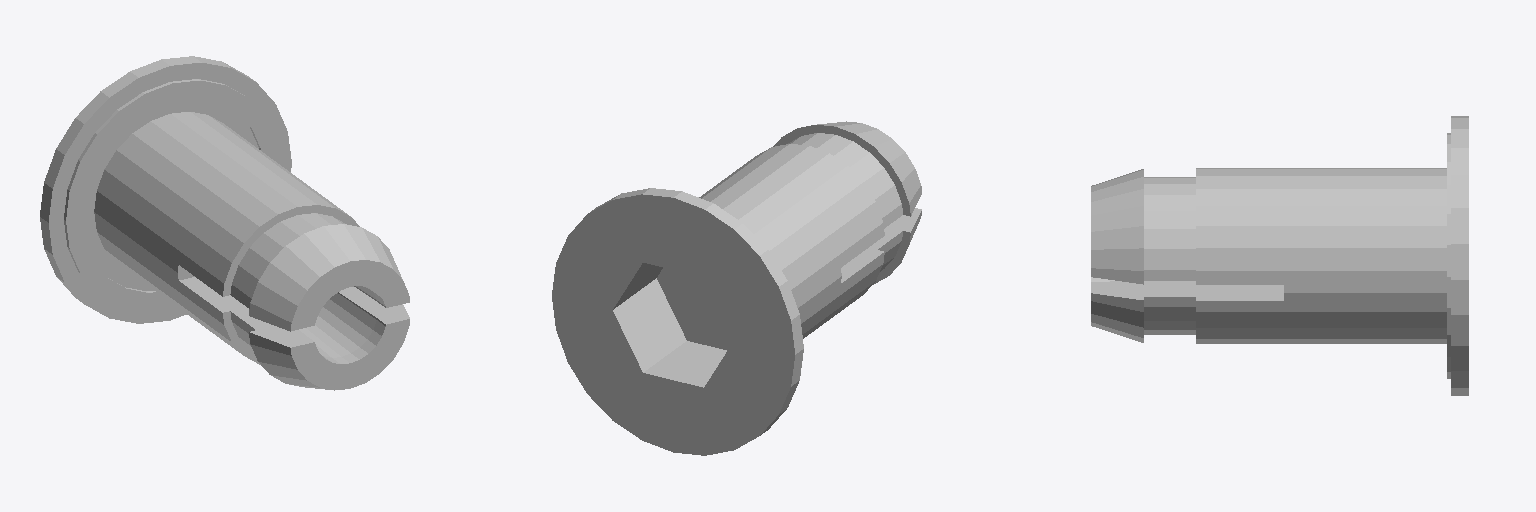
File: Bowden Swivel.obj
3 renders of one model, left to right at view 1: azimuth 30°, elevation 25°; view 2: azimuth 150°, elevation 25°; view 3: azimuth 270°, elevation 25°, orthographic.
Visible parts, largest first — view 1: Mesh1 Model; view 2: Mesh1 Model; view 3: Mesh1 Model.
Boxes of the visible parts, x1,y1,x2,y2 form: Mesh1 Model: [40, 56, 409, 390]; Mesh1 Model: [552, 121, 921, 455]; Mesh1 Model: [1091, 116, 1468, 395].
Size of the model in its own units: 16 by 16 by 21.5.